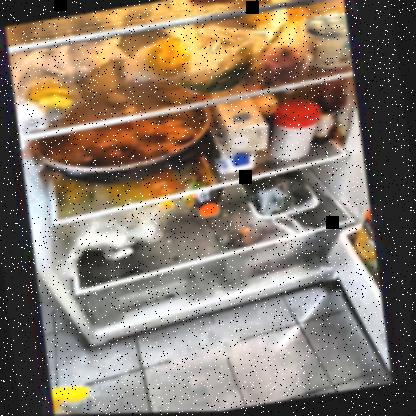broccoli: (242, 171, 332, 220)
carrot: (185, 0, 310, 10)
green_chillies: (175, 56, 260, 99)
lemon: (26, 72, 77, 119), (146, 36, 196, 80)
milk: (207, 98, 272, 174)
tomato: (260, 45, 309, 80)
yoghurt: (300, 11, 351, 74)
